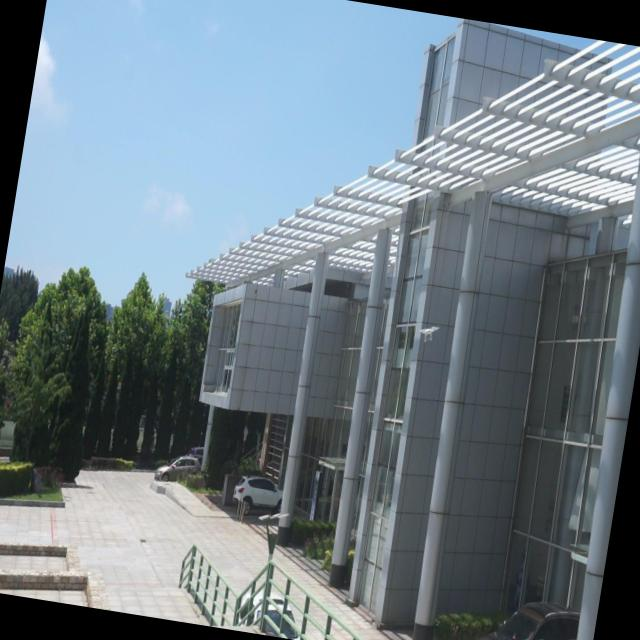drone: (416, 320, 440, 347)
